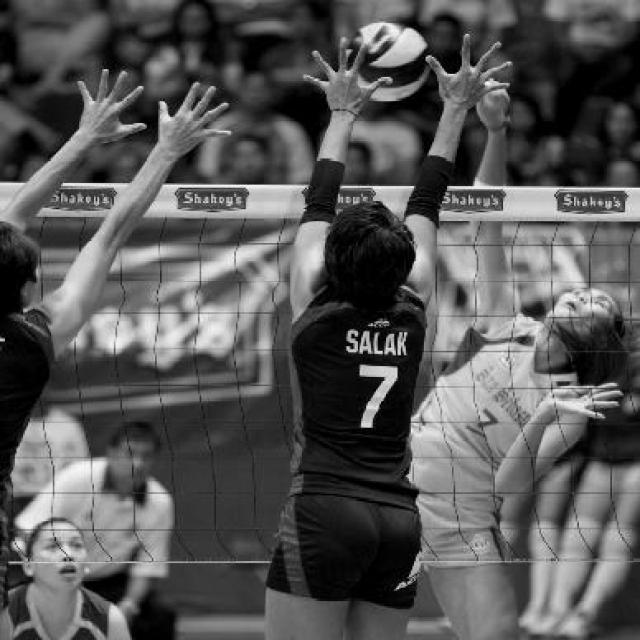volleyball: (346, 23, 433, 102)
